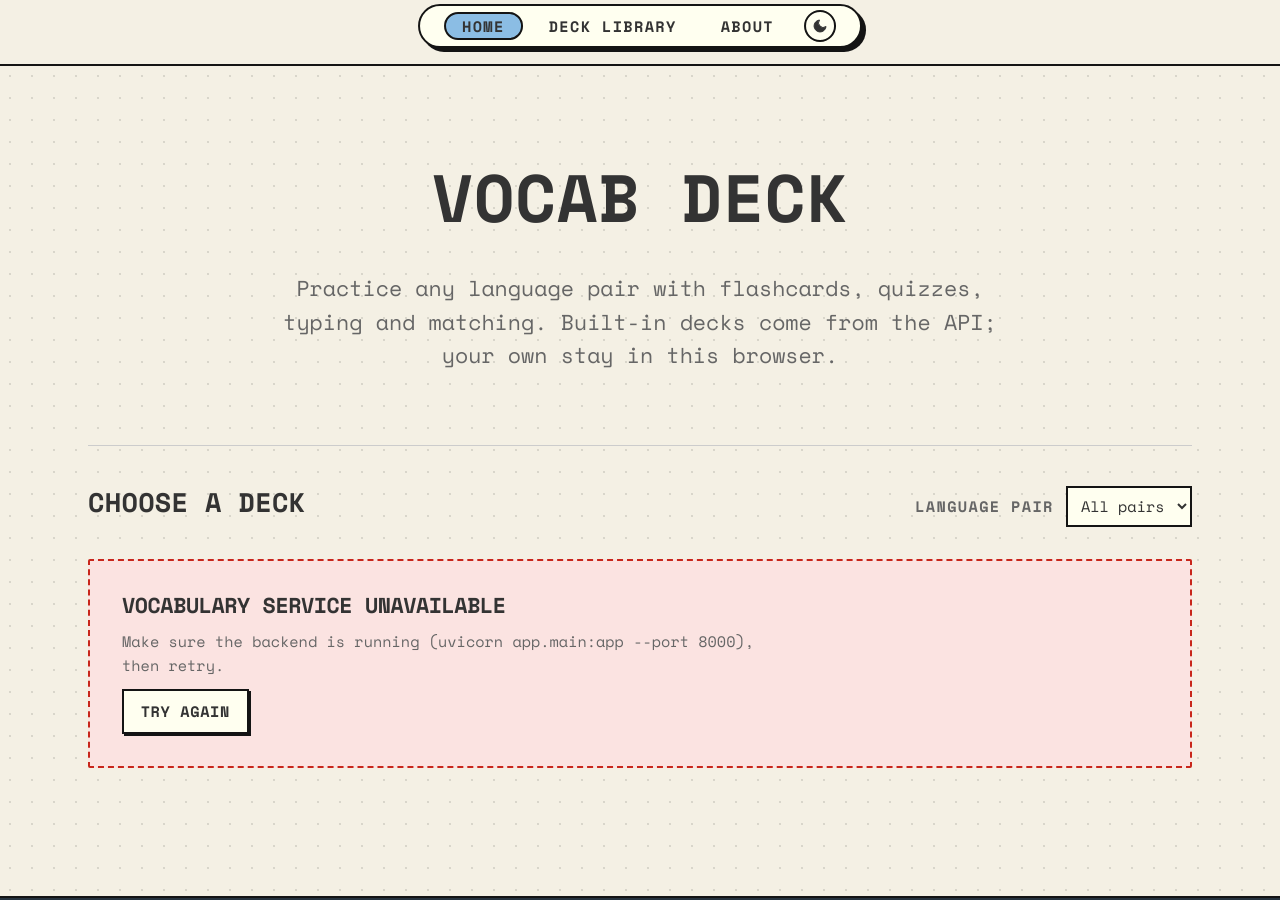
Test: network failure shows a retryable error state
Expected: the message shows "Vocabulary service unavailable", [122,589,506,621]
Click the button "Try again" at (185, 711), box [122,689,249,734]
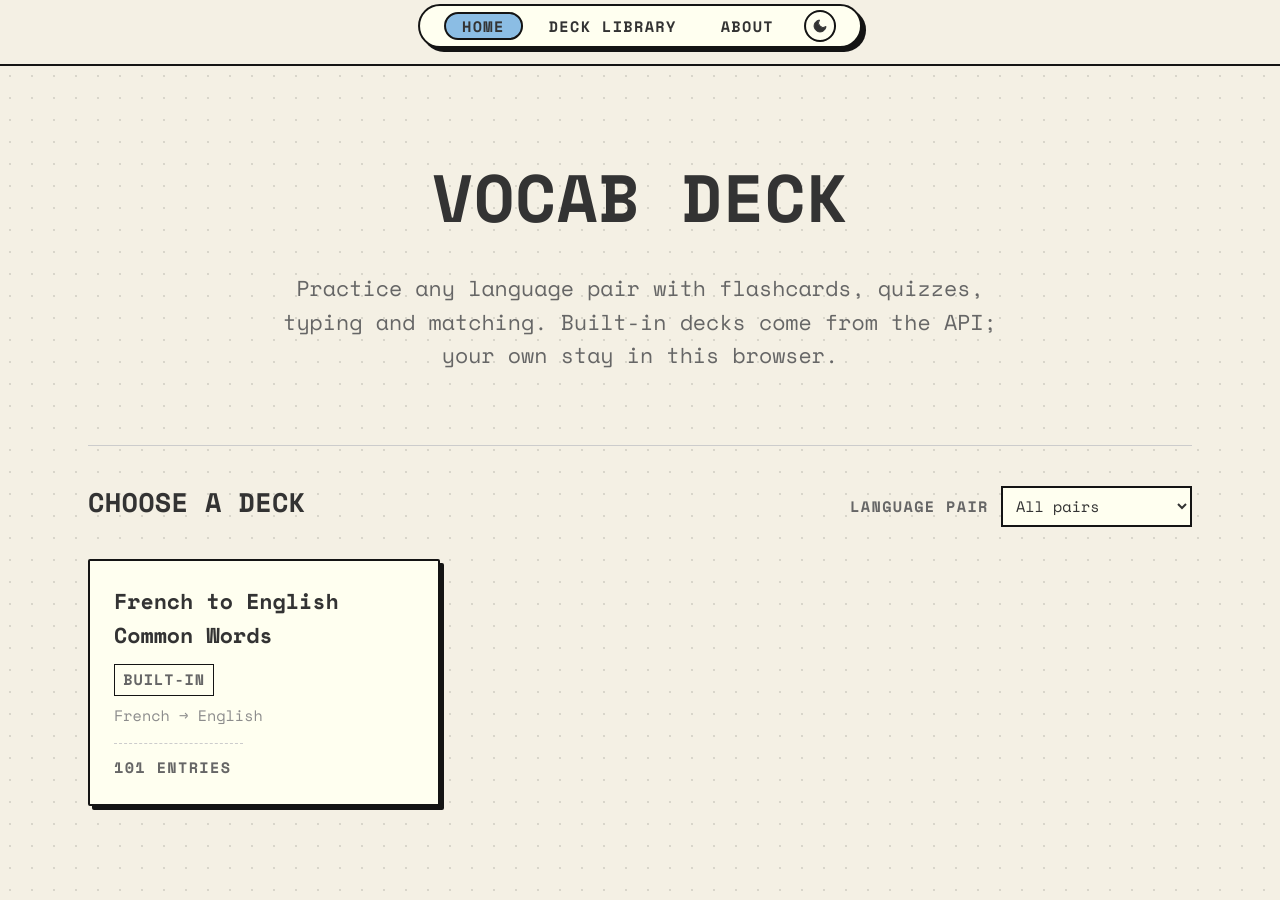
Expected: the text "French to English Common Words" is shown, [114,585,339,651]
